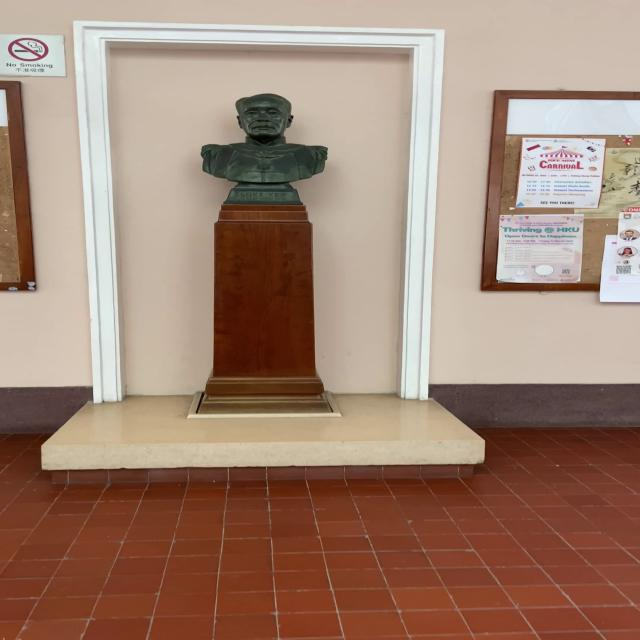statues: (194, 88, 341, 212)
